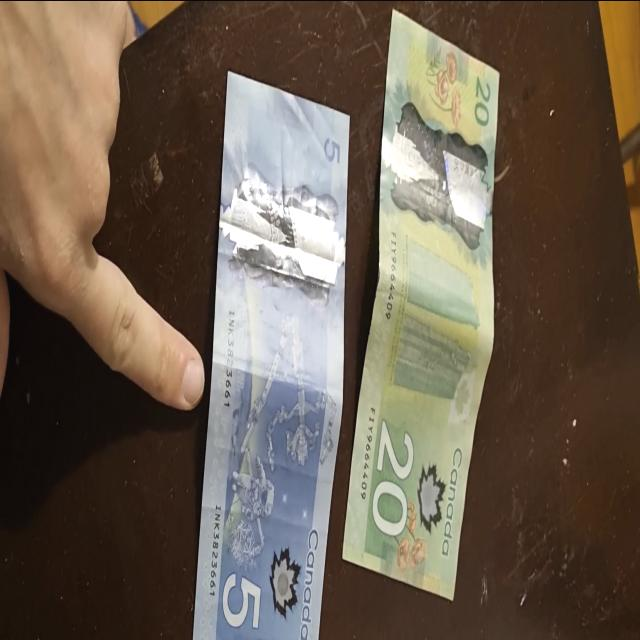20 cad: (349, 41, 503, 610)
5 cad: (195, 99, 348, 640)
